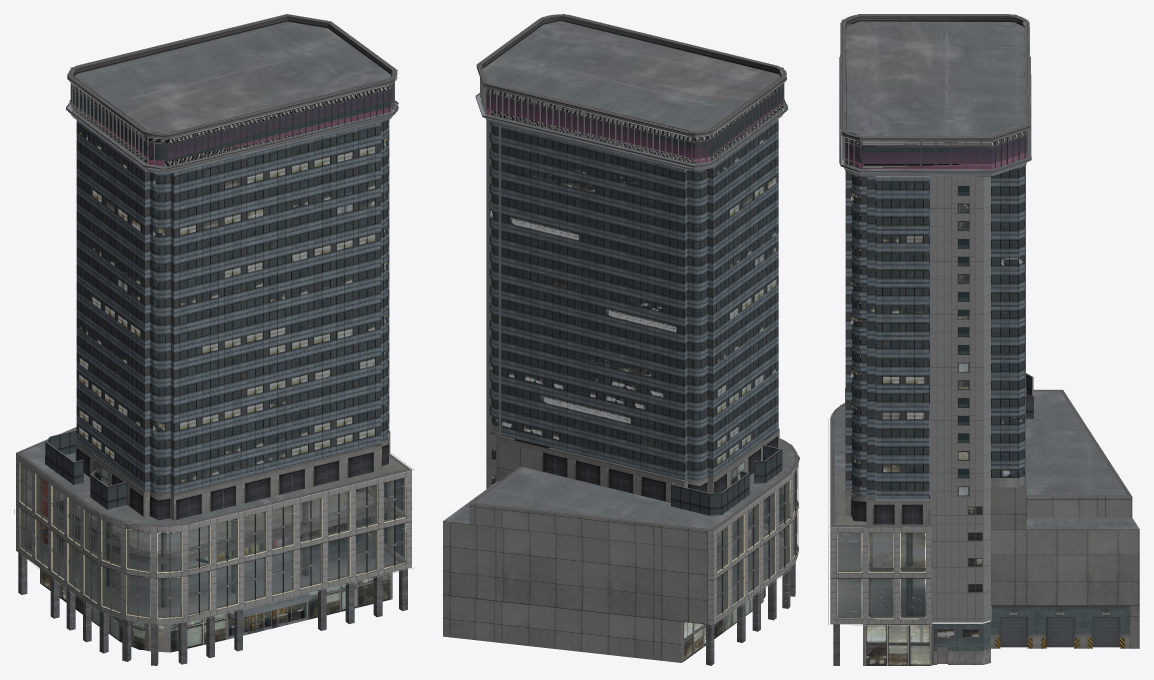
Rendered from glass_office_tower.gltf.
3 renders of one model, left to right at view 1: azimuth 30°, elevation 25°; view 2: azimuth 150°, elevation 25°; view 3: azimuth 270°, elevation 25°, orthographic. The views are drawn at different scales.
Parts seen in each view (by area): view 1: Object_4; view 2: Object_4; view 3: Object_4.
Part boxes in pixels (x1=…): Object_4: x1=14, y1=14, x2=414, y2=665; Object_4: x1=443, y1=14, x2=799, y2=665; Object_4: x1=828, y1=14, x2=1139, y2=665.
Bounding box in the file's own units: 58.83 × 105 × 56.01.
Materials: 7 (6 with a texture image).
